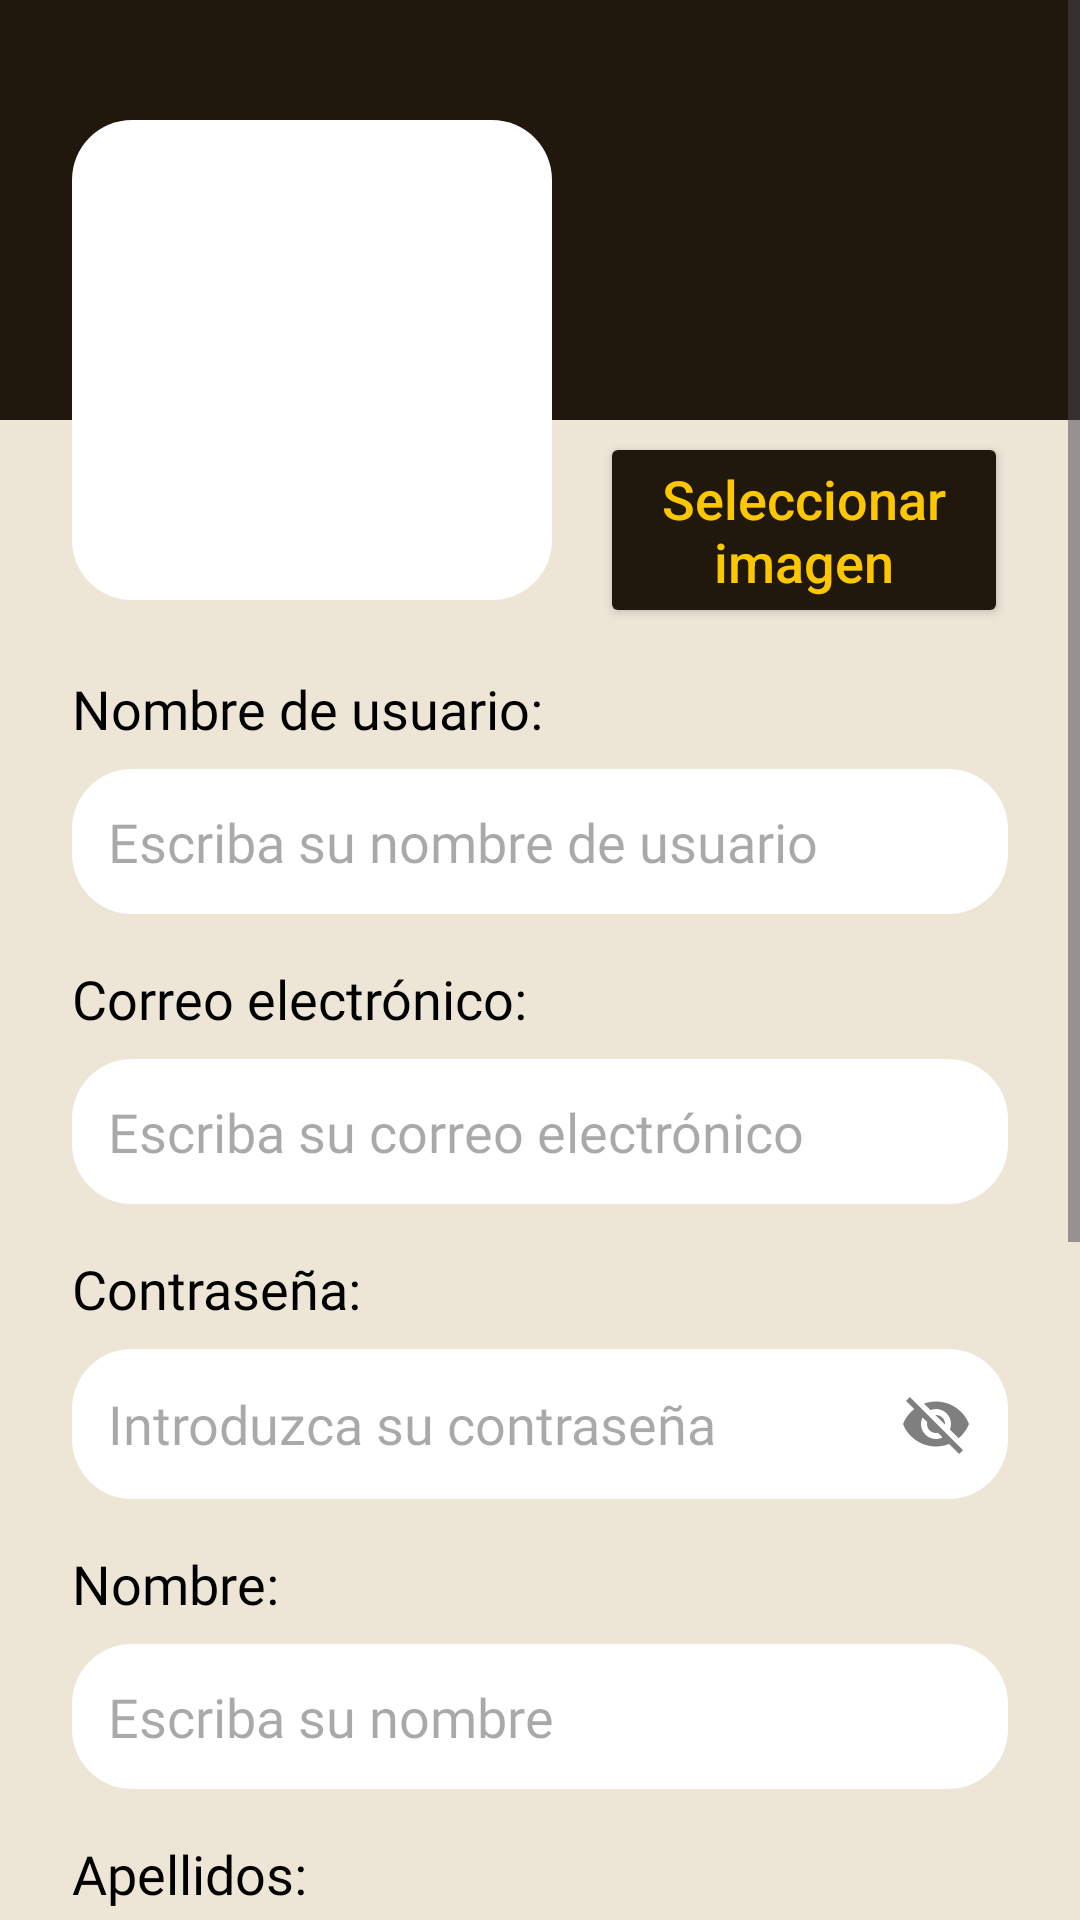

Screen size 1080×1920. Icon name, then its center in pixels as (x=x, y=y):
visibility off: (x=936, y=1424)
